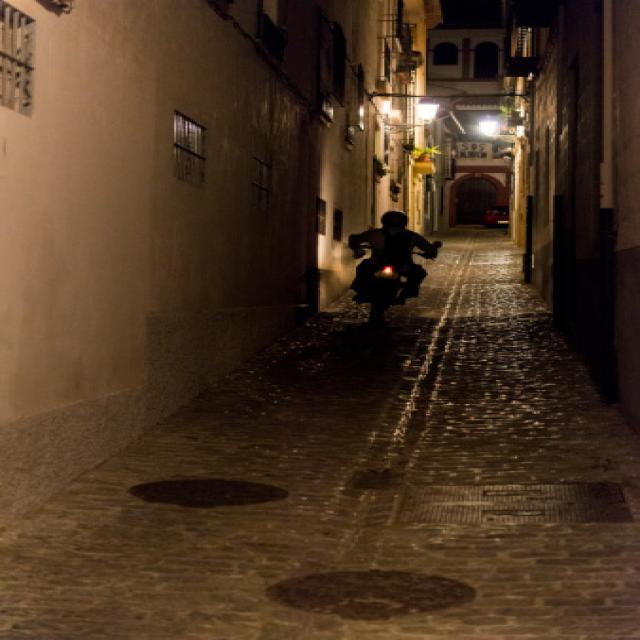Motorbike: (328, 198, 447, 326)
